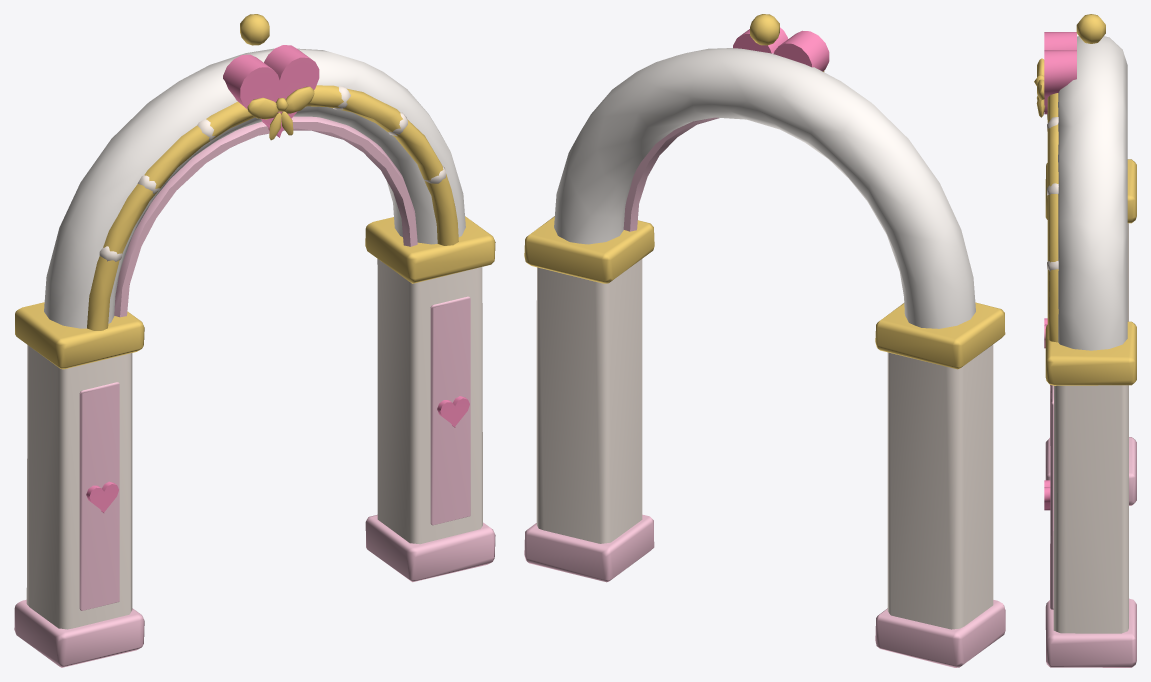
File: arch_gate.glb
The picture shows the model from 3 angles, left to right: view 1: azimuth 30°, elevation 25°; view 2: azimuth 150°, elevation 25°; view 3: azimuth 270°, elevation 25°; orthographic projection. The views are drawn at different scales.
Parts seen in each view (by area): view 1: arch_gate; view 2: arch_gate; view 3: arch_gate.
Part boxes in pixels (x1=…): arch_gate: x1=14, y1=14, x2=495, y2=667; arch_gate: x1=524, y1=14, x2=1005, y2=667; arch_gate: x1=1034, y1=14, x2=1136, y2=667.
Size of the model in its own units: 4.37 by 5.58 by 0.9399.
